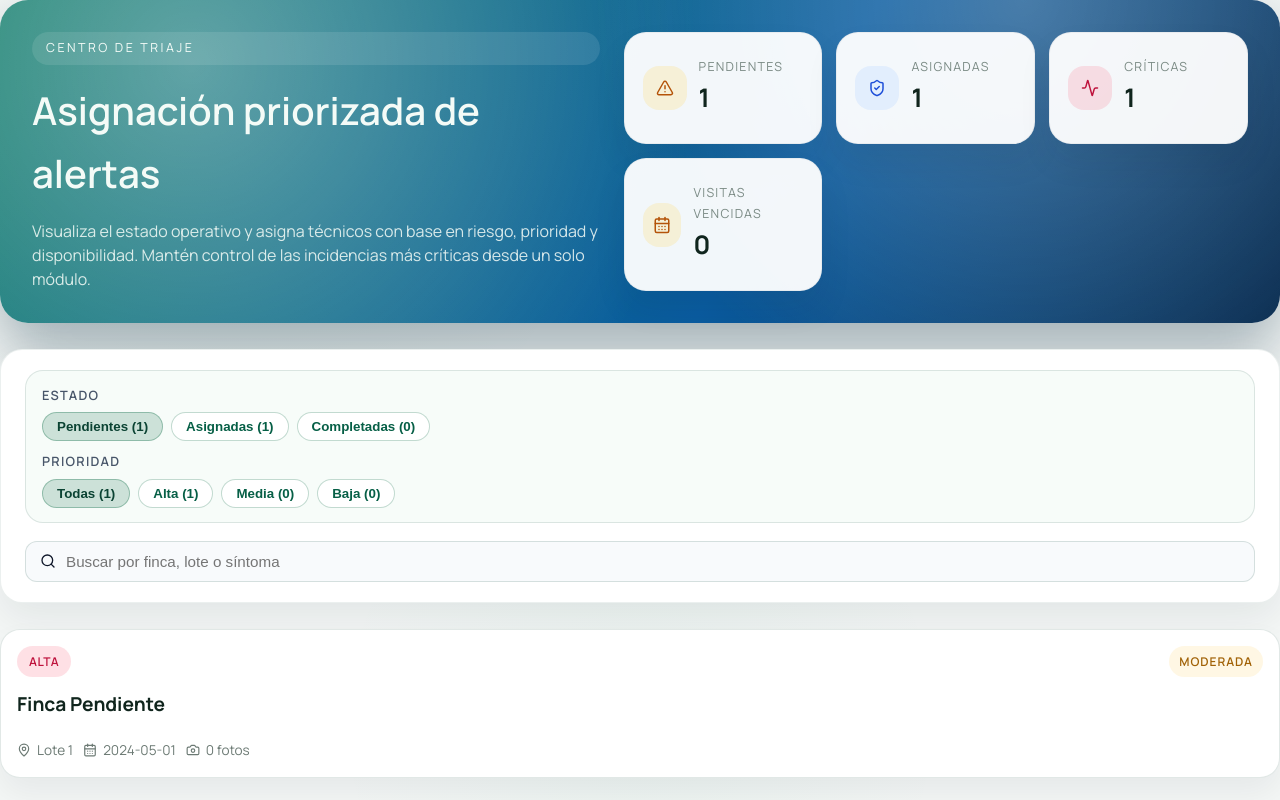
Scenario: AlertTriageView filters › status pills switch between pending and assigned alerts
Expected: the heading "Finca Pendiente" is shown, [17, 691, 165, 717]
Expected: the text "Finca Asignada" is not shown
Click the button "Asignadas (1)" at (230,427), box [171, 412, 288, 441]
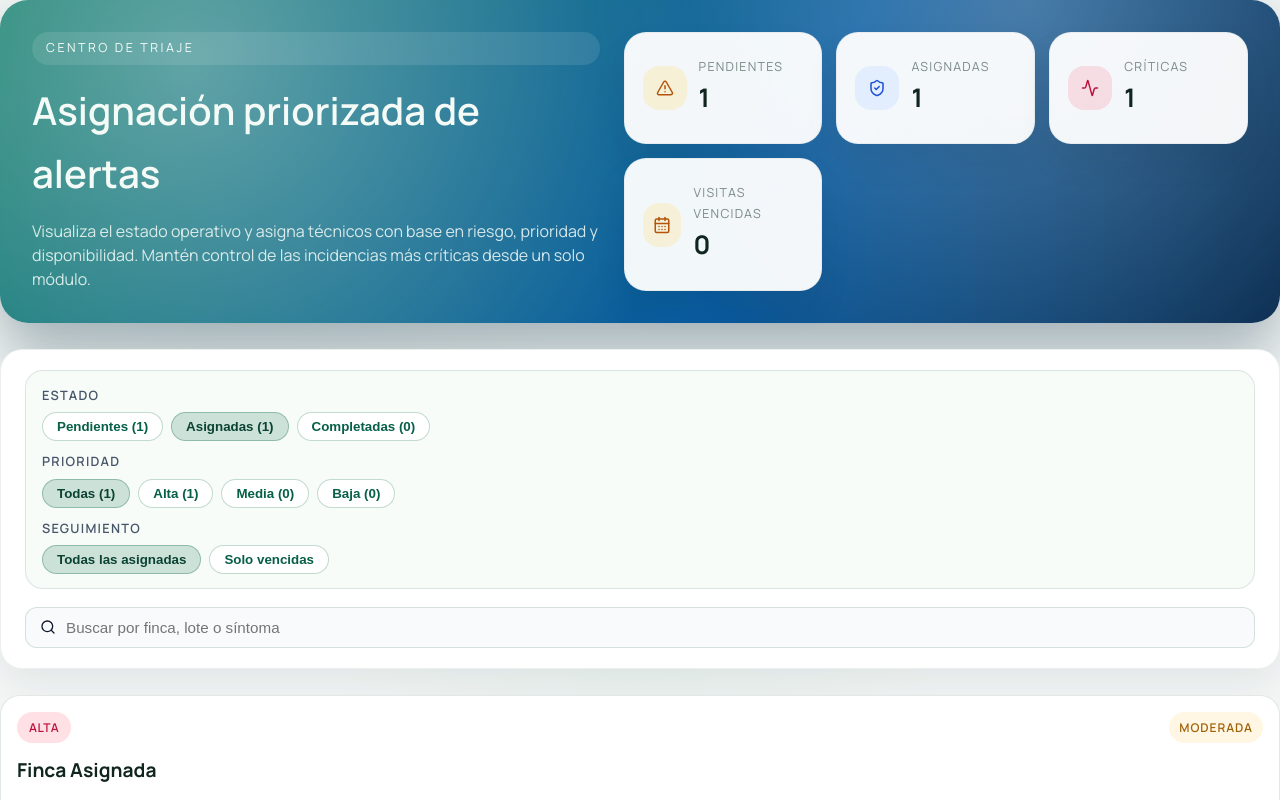
Result: the heading "Finca Asignada" is shown at [17, 757, 156, 783]
Result: the heading "Finca Pendiente" is gone
